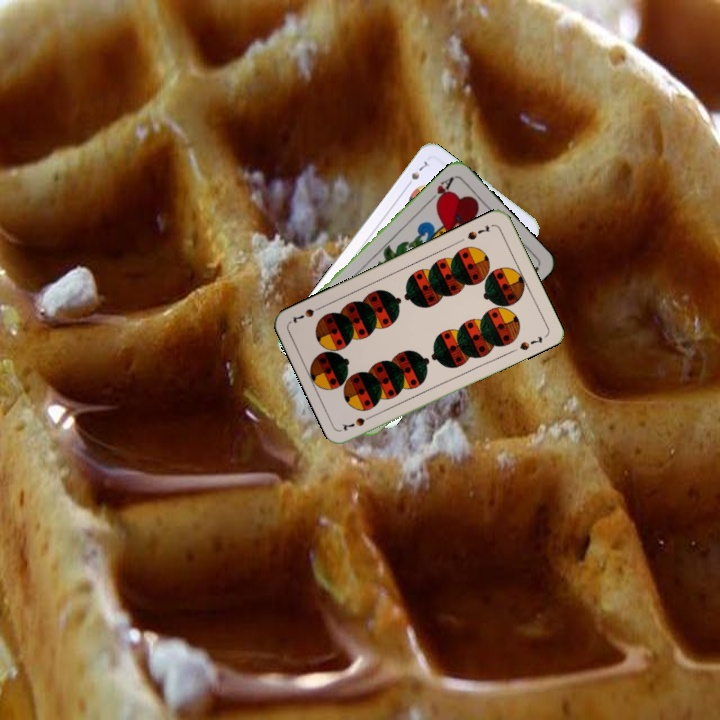HA: (425, 172, 457, 207)
S7: (338, 410, 378, 434), (402, 156, 430, 190), (463, 221, 493, 243)
